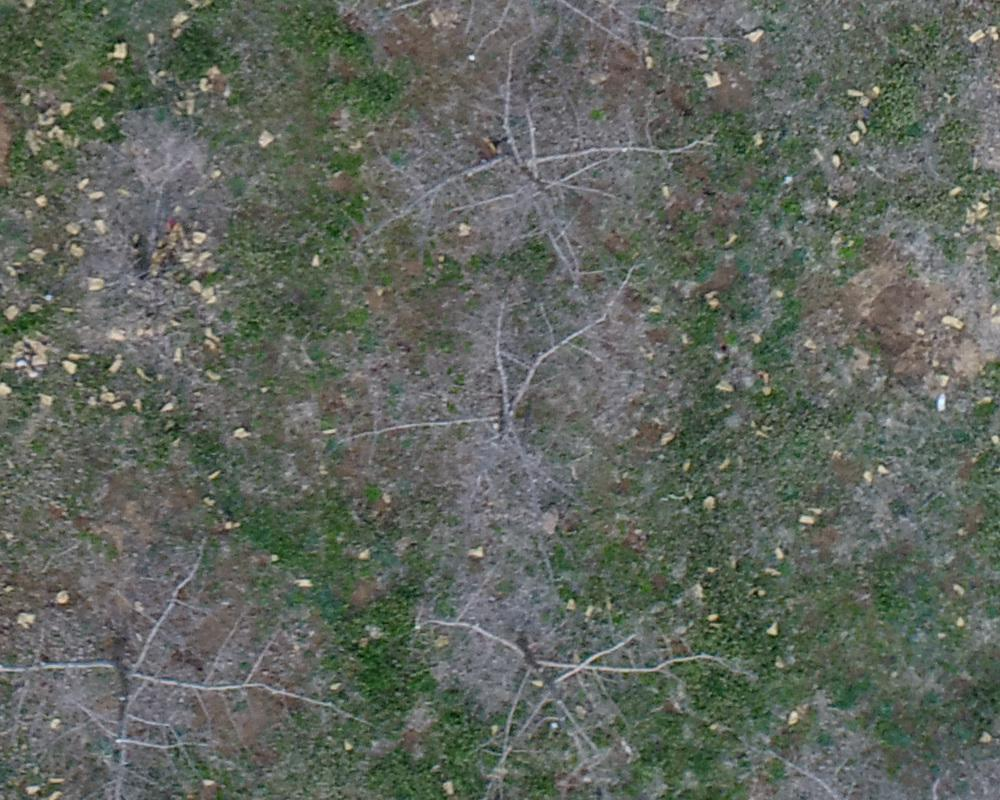apple: (415, 551, 759, 790), (10, 562, 349, 790), (372, 251, 670, 482), (376, 73, 739, 243)
